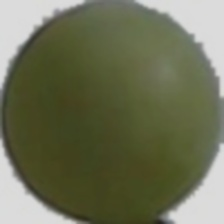grapes: (39, 28, 218, 224)
